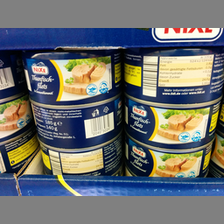fish: (123, 48, 224, 106), (121, 94, 224, 150), (21, 52, 123, 105), (26, 99, 122, 149), (123, 134, 214, 177)
